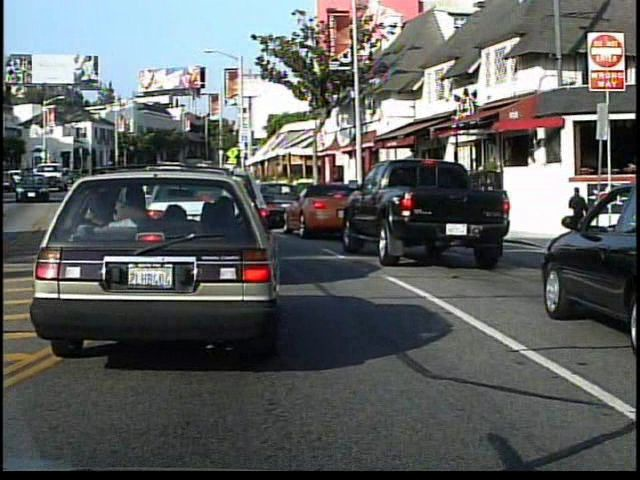person: (481, 152, 501, 173)
